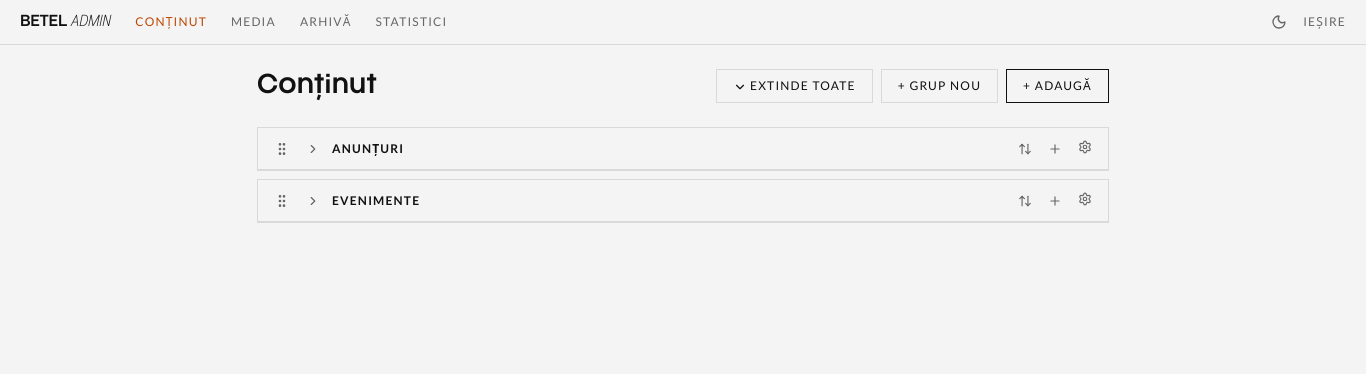
Scenario: Toggle all groups button › expands all groups when clicked and all are collapsed
Click the button with test id "toggle-all-groups-btn" at (795, 86), box [716,69,873,103]
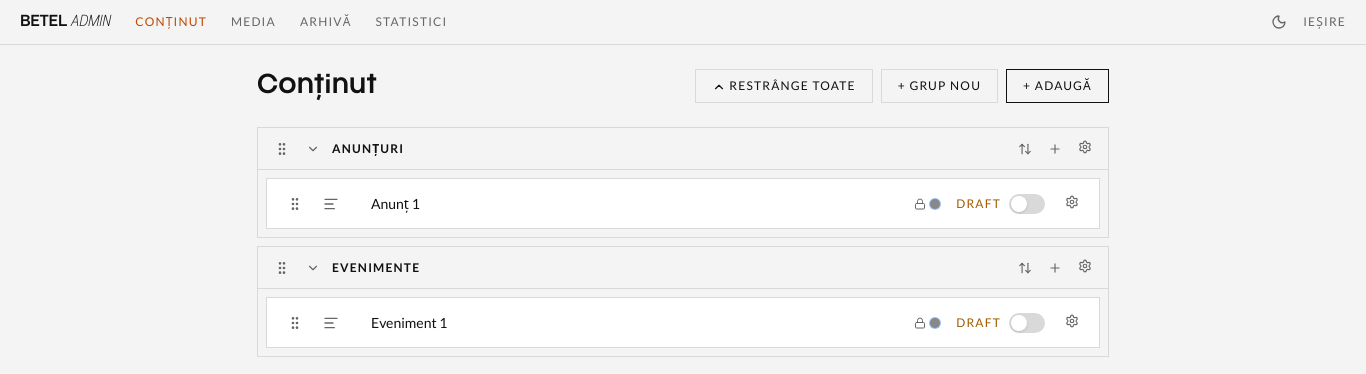
Expected: the list with test id "container-g1" is shown, [258,170,1108,237]
Expected: the list with test id "container-g2" is shown, [258,289,1108,356]
